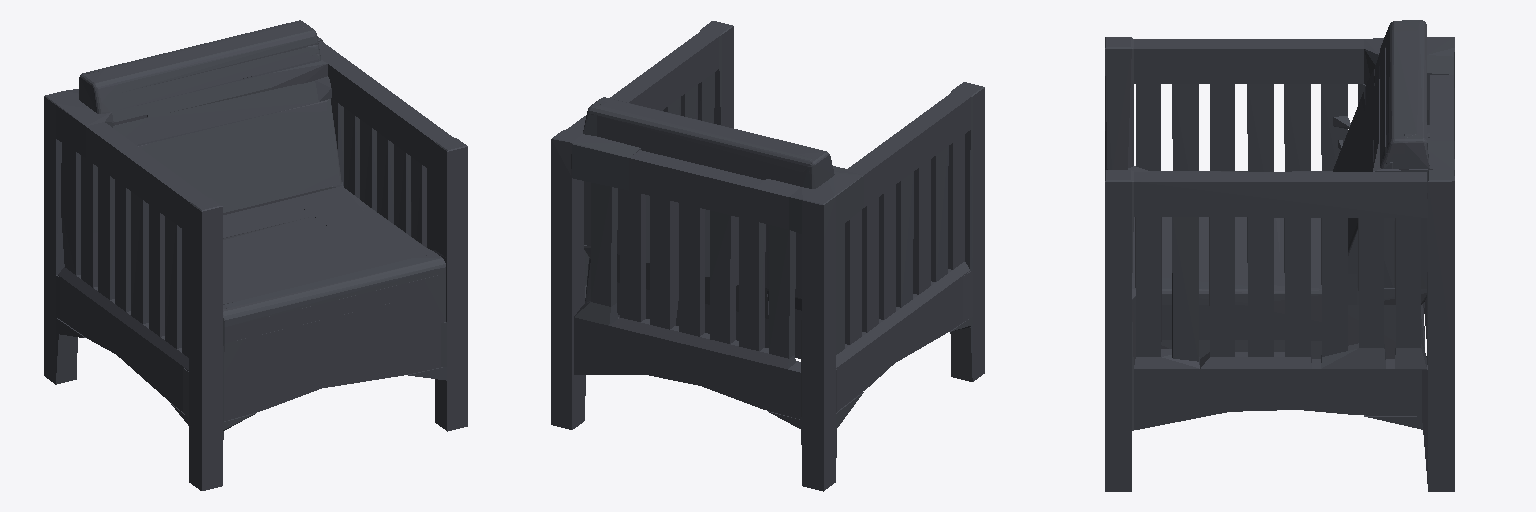
robot.urdf — ../obj/chair.urdf:
<?xml version="1.0" ?>
<robot name="../obj/chair.urdf">
  <link name="baseLink">
    <inertial>
      <origin rpy="0 0 0" xyz="-0.0003 0.0195 0.0075"/>
       <mass value="50"/>
       <inertia ixx="0.00011847966176060705" ixy="-4.0447268700633684e-07" ixz="1.1338914719686175e-07" iyy="0.00011657989890476369" iyz="-1.788860351969175e-05" izz="0.00016338416682970641"/>
    </inertial>
    <visual>
      <origin rpy="0 0 0" xyz="-0.0003 0.0195 0.0075"/>
      <geometry>
        <mesh filename="../obj/chair_vhacd.obj" 
		scale="4.0 4.0 4.0"/>
      </geometry>
     <material name="grey">
      <color rgba="0.32 0.33 0.36 1"/>
     </material>
    </visual>
    <collision>
      <origin rpy="0 0 0" xyz="-0.0003 0.0195 0.0075"/>
      <geometry>
        <mesh filename="../obj/chair_vhacd.obj" scale="4.0 4.0 4.0"/>
      </geometry>
    </collision>
  </link>
</robot>
        

--- Render facts (derived) ---
Views: 3 orthographic renders of the robot side by side, from view 1: azimuth 30°, elevation 25°; view 2: azimuth 150°, elevation 25°; view 3: azimuth 270°, elevation 25°.
Robot: ../obj/chair.urdf — 1 links, 0 joints (none); root link baseLink; default pose: all joints at 0.
Links seen in each view (by area): view 1: baseLink; view 2: baseLink; view 3: baseLink.
Boxes of the visible links, x1,y1,x2,y2 form: baseLink: (44, 20, 467, 490); baseLink: (551, 21, 984, 491); baseLink: (1105, 20, 1454, 491).
Size in the robot's own frame: 1.14 by 1.17 by 1.25 metres.
Meshes: 1 distinct files referenced, 1 mesh visuals loaded (1 OBJ).